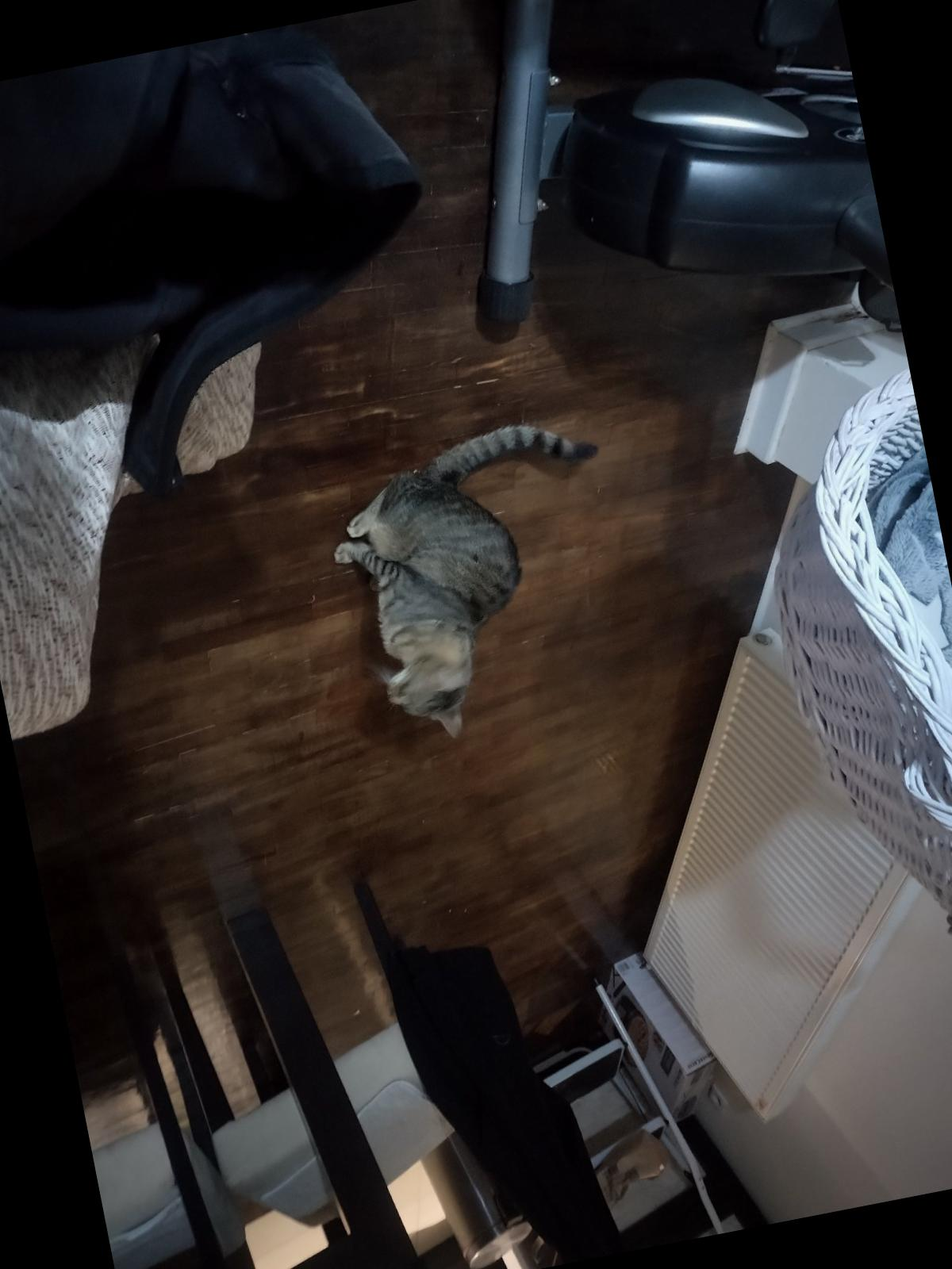macka: (309, 406, 651, 755)
